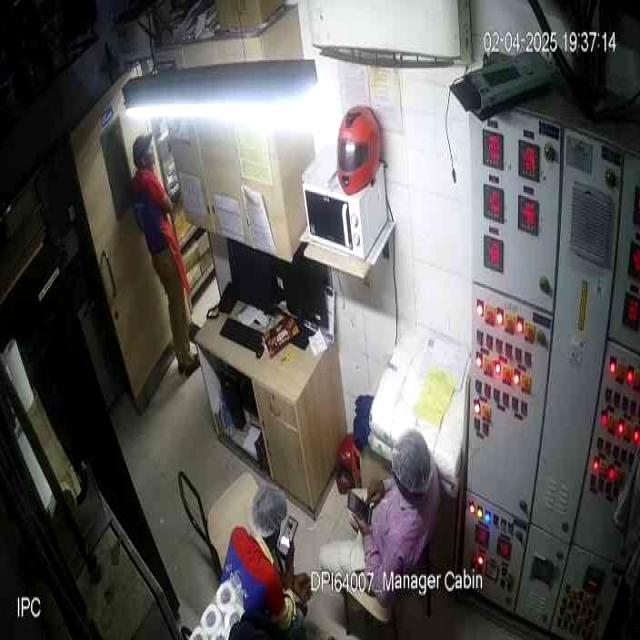helmet: (336, 105, 381, 193)
no_helmet: (392, 426, 435, 501), (247, 484, 287, 548), (132, 133, 154, 169)
